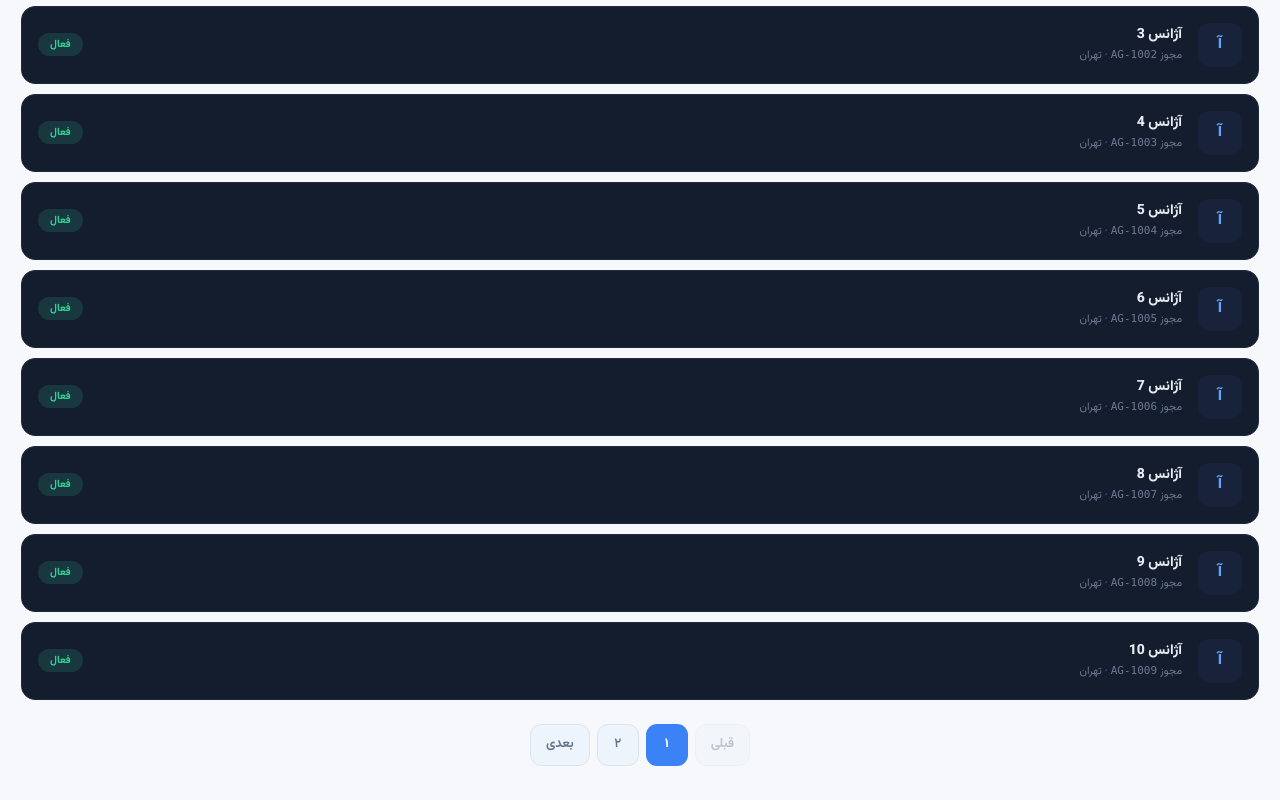
Test: SiteAdminAgenciesPage › paginates partner agencies at 10 per page
(page scrolled)
expect the text "آژانس 10" is shown: met, box [1129,640,1182,662]
expect the text "آژانس 11" is not shown: met
Click the button "بعدی": (560, 744) [530,724,590,766]
(page scrolled)
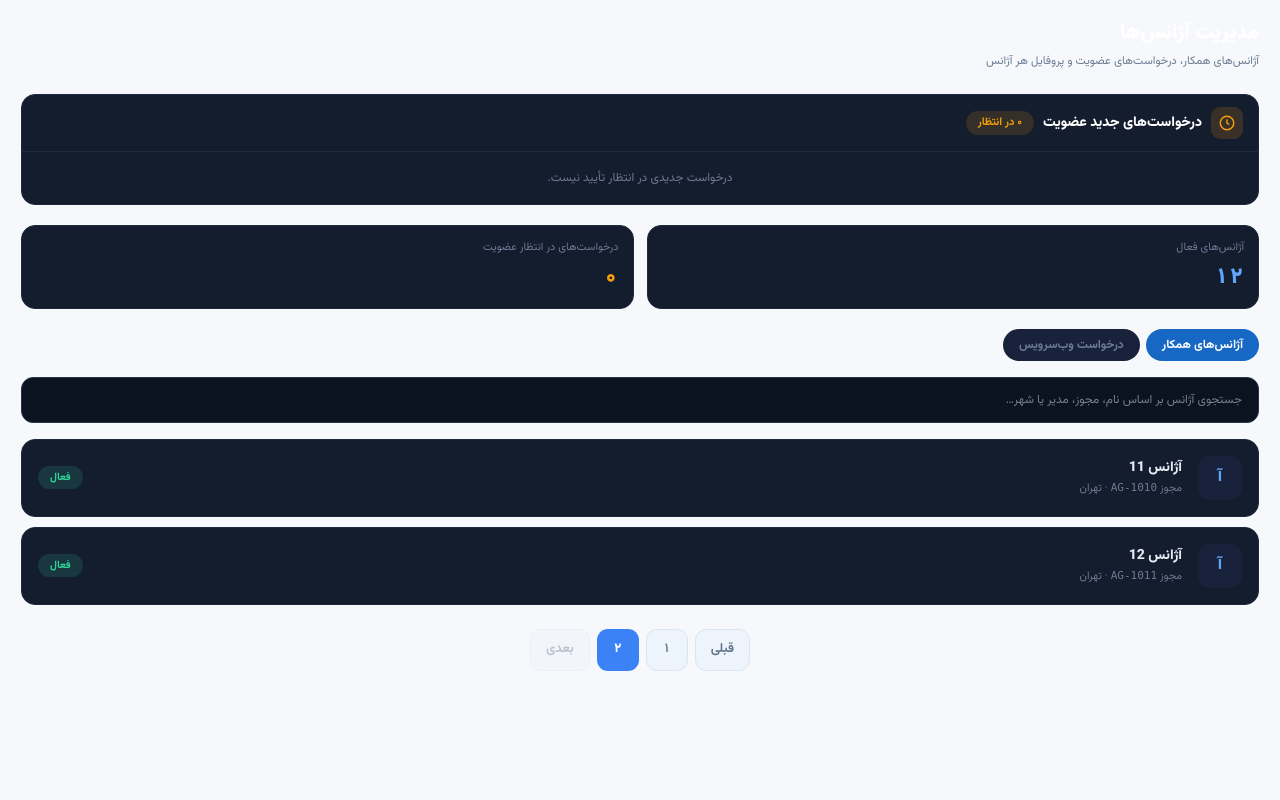
expect the text "آژانس 11" is shown: met, box [1129,457,1182,479]
